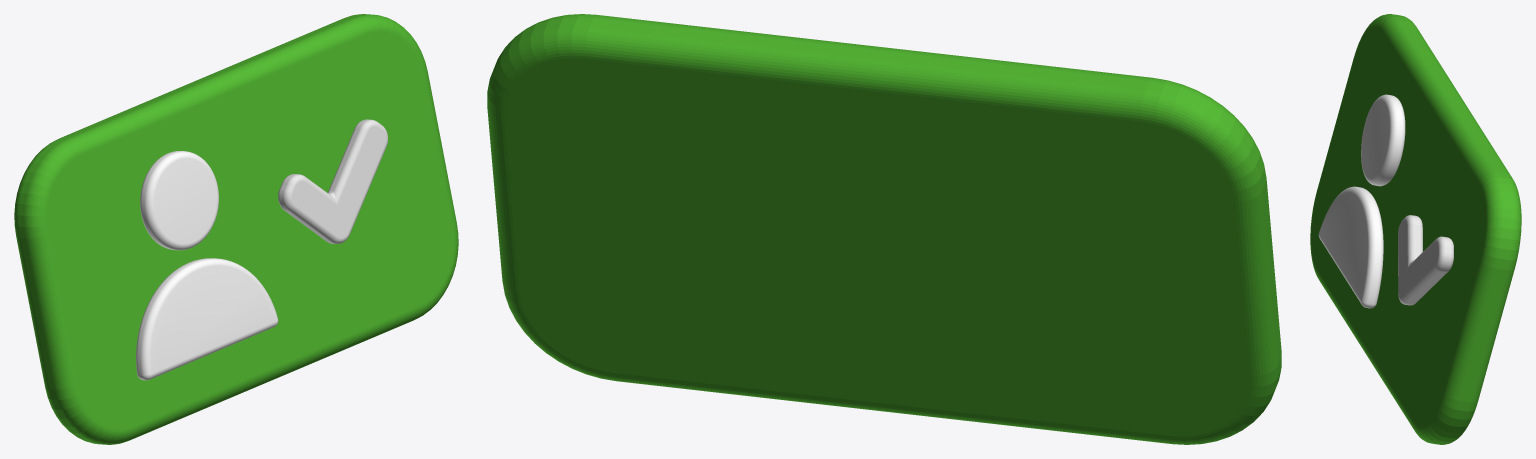
3 renders of one model, left to right at view 1: azimuth 30°, elevation 25°; view 2: azimuth 150°, elevation 25°; view 3: azimuth 270°, elevation 25°, orthographic. The views are drawn at different scales.
Visible parts, largest first — view 1: Plane.016, Cylinder.010, Cube.003; view 2: Plane.016; view 3: Plane.016, Cylinder.010, Cube.003.
Boxes of the visible parts, x1,y1,x2,y2 form: Plane.016: (14, 14, 458, 444); Cylinder.010: (136, 151, 278, 380); Cube.003: (278, 119, 388, 243); Plane.016: (487, 14, 1281, 444); Plane.016: (1310, 14, 1521, 444); Cylinder.010: (1318, 94, 1405, 308); Cube.003: (1398, 215, 1453, 305).
Bounding box in the file's own units: 5.39 × 3 × 2.22.
